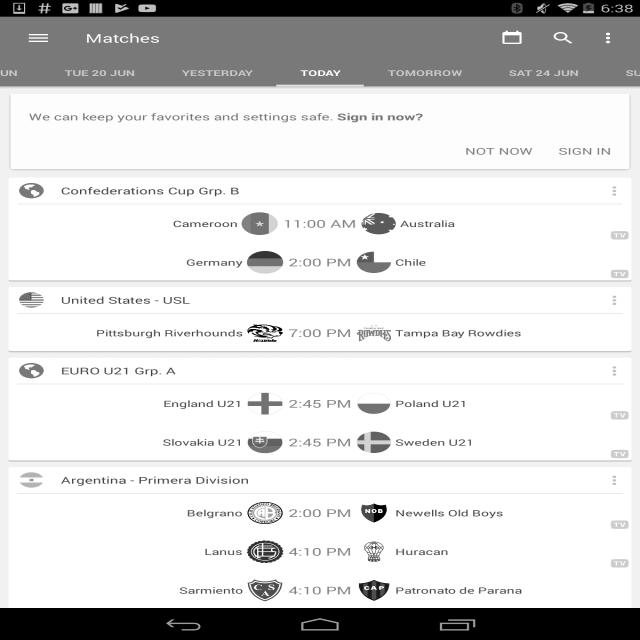Button: (456, 139, 542, 163), (550, 139, 620, 163)
ImageButton: (9, 17, 68, 59)
ImageView: (589, 22, 631, 54), (580, 178, 632, 203), (580, 287, 632, 312), (580, 358, 632, 383), (580, 467, 632, 492), (241, 212, 278, 235), (247, 251, 283, 274), (247, 392, 283, 415), (247, 431, 283, 454), (247, 540, 283, 563), (247, 579, 283, 602), (247, 322, 283, 344), (247, 502, 283, 524), (357, 322, 391, 344), (357, 502, 391, 524), (362, 213, 396, 234), (357, 252, 391, 273), (357, 393, 391, 414), (357, 432, 391, 453), (357, 541, 391, 562), (357, 580, 391, 601), (19, 292, 44, 308), (19, 472, 44, 488), (19, 183, 44, 198), (19, 363, 44, 378), (608, 228, 631, 243), (608, 267, 631, 282), (608, 408, 631, 423), (608, 447, 631, 462), (608, 556, 631, 571), (608, 518, 631, 532)
TextView: (29, 110, 611, 123), (61, 184, 559, 197), (61, 364, 559, 377), (61, 294, 559, 306), (61, 474, 559, 486), (364, 59, 485, 86), (158, 59, 276, 86), (41, 59, 158, 86), (485, 59, 602, 86), (276, 59, 364, 86), (280, 212, 359, 236), (95, 327, 242, 339), (285, 250, 355, 274), (285, 321, 355, 345), (285, 392, 355, 416), (285, 430, 355, 454), (285, 501, 355, 525), (285, 540, 355, 564), (285, 578, 355, 602), (487, 22, 538, 54), (538, 22, 588, 54), (395, 584, 523, 596), (395, 327, 522, 339), (395, 507, 504, 519), (85, 30, 160, 46), (0, 59, 41, 86), (602, 59, 640, 86), (162, 436, 243, 448), (163, 398, 243, 410), (395, 436, 474, 448), (395, 398, 468, 410), (172, 218, 238, 230), (178, 584, 242, 596), (186, 256, 243, 268), (186, 507, 242, 519), (400, 218, 455, 230), (395, 546, 449, 558), (204, 546, 243, 558), (395, 256, 426, 268), (19, 204, 34, 214), (19, 243, 34, 253), (19, 314, 34, 324), (19, 384, 34, 394), (19, 423, 34, 433), (19, 494, 34, 504), (19, 532, 34, 542), (19, 571, 34, 581)
